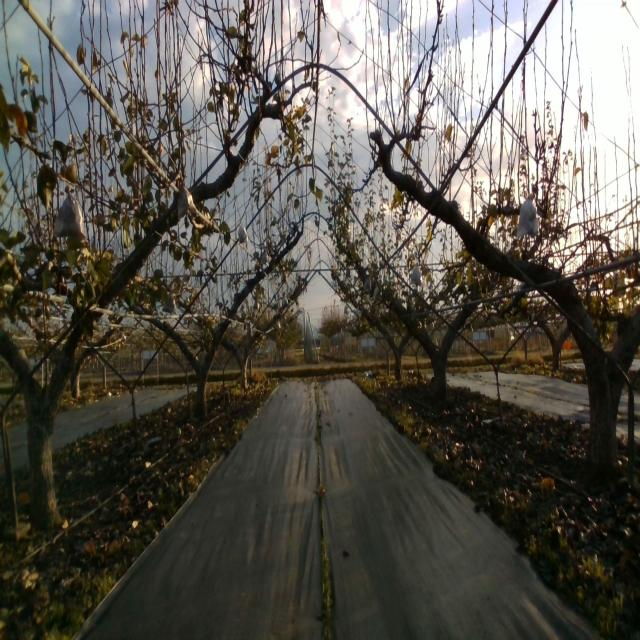pearbags: (52, 187, 86, 239), (516, 194, 540, 238), (178, 184, 199, 221), (410, 266, 423, 286)
